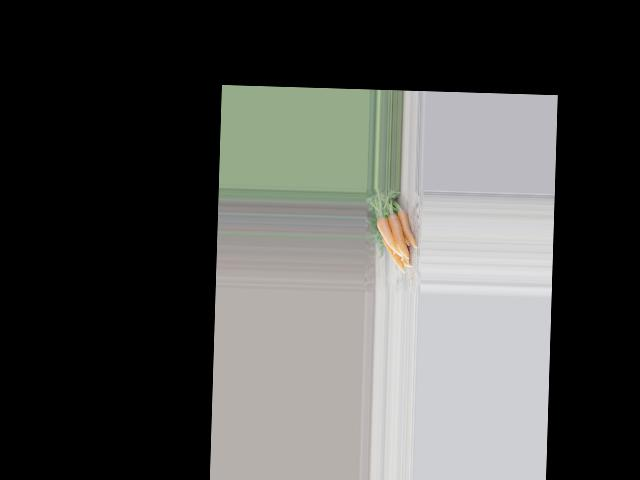carrot: (395, 208, 418, 252)
